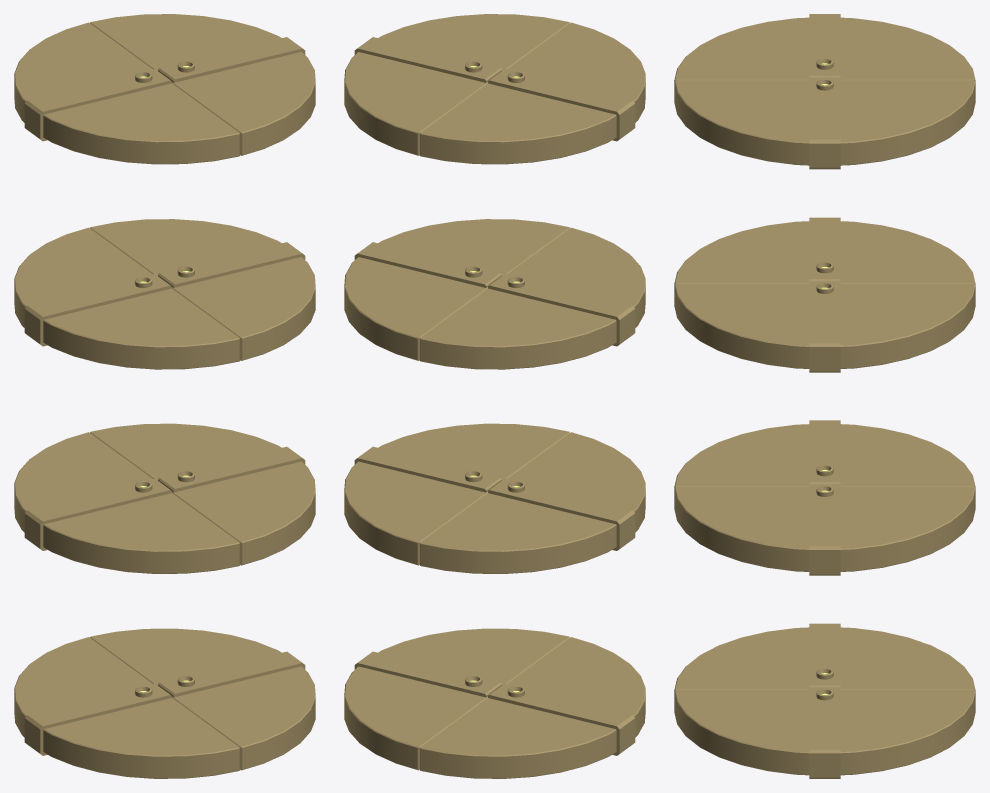
Rendered from Doors_camera.glb.
The picture shows the model from 3 angles, left to right: view 1: azimuth 30°, elevation 25°; view 2: azimuth 150°, elevation 25°; view 3: azimuth 270°, elevation 25°; orthographic projection.
Parts seen in each view (by area): view 1: Door2_Left, Door1_Left, Door4_Left, Door3_Left, Door4_Right, Door3_Right, Door2_Right, Door1_Right; view 2: Door2_Left, Door1_Left, Door4_Left, Door3_Left, Door4_Right, Door3_Right, Door2_Right, Door1_Right; view 3: Door3_Right, Door1_Right, Door4_Right, Door2_Right, Door1_Left, Door3_Left, Door2_Left, Door4_Left.
Part boxes in pixels (x1=…): Door2_Left: x1=14, y1=227, x2=239, y2=369; Door1_Left: x1=14, y1=22, x2=239, y2=164; Door4_Left: x1=14, y1=637, x2=239, y2=778; Door3_Left: x1=14, y1=432, x2=239, y2=573; Door4_Right: x1=90, y1=628, x2=315, y2=770; Door3_Right: x1=90, y1=423, x2=315, y2=565; Door2_Right: x1=90, y1=219, x2=315, y2=360; Door1_Right: x1=90, y1=14, x2=315, y2=155; Door2_Left: x1=420, y1=227, x2=645, y2=369; Door1_Left: x1=420, y1=22, x2=645, y2=164; Door4_Left: x1=420, y1=637, x2=645, y2=778; Door3_Left: x1=420, y1=432, x2=645, y2=573; Door4_Right: x1=344, y1=628, x2=569, y2=770; Door3_Right: x1=344, y1=423, x2=569, y2=565; Door2_Right: x1=344, y1=219, x2=569, y2=360; Door1_Right: x1=344, y1=14, x2=569, y2=155; Door3_Right: x1=674, y1=484, x2=975, y2=575; Door1_Right: x1=674, y1=77, x2=975, y2=169; Door4_Right: x1=674, y1=687, x2=975, y2=778; Door2_Right: x1=674, y1=281, x2=975, y2=372; Door1_Left: x1=674, y1=14, x2=975, y2=80; Door3_Left: x1=674, y1=420, x2=975, y2=487; Door2_Left: x1=674, y1=217, x2=975, y2=284; Door4_Left: x1=674, y1=623, x2=975, y2=690.
Bounding box in the file's own units: 21.02 × 49.23 × 20.86.
